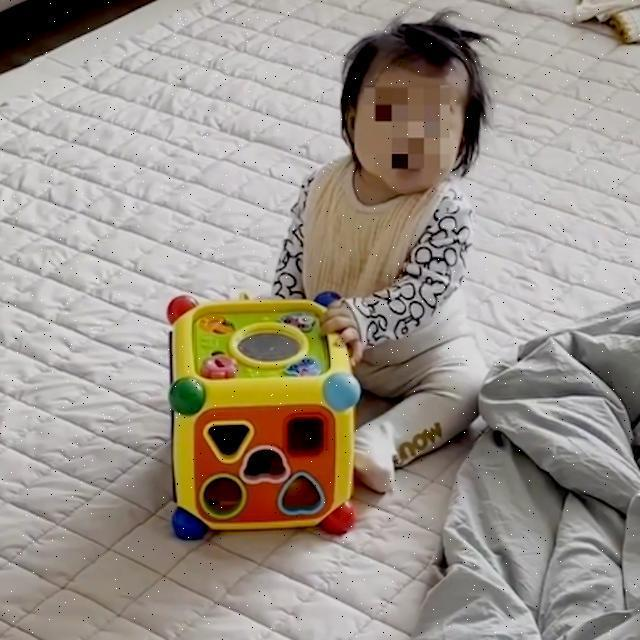child: (267, 21, 495, 483)
